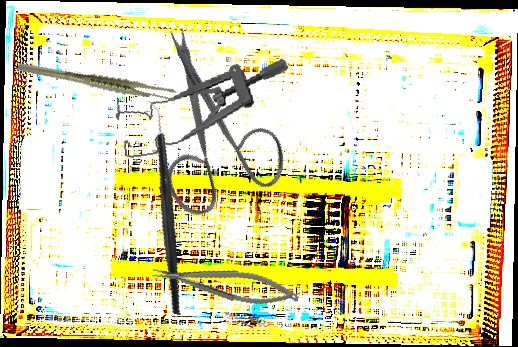Chopper: (91, 99, 234, 316)
Iris Scissors: (90, 18, 322, 246)
Needle Holder: (150, 252, 302, 315)
Speculum: (109, 55, 299, 161)
Tissue Forceps: (16, 33, 179, 129)
